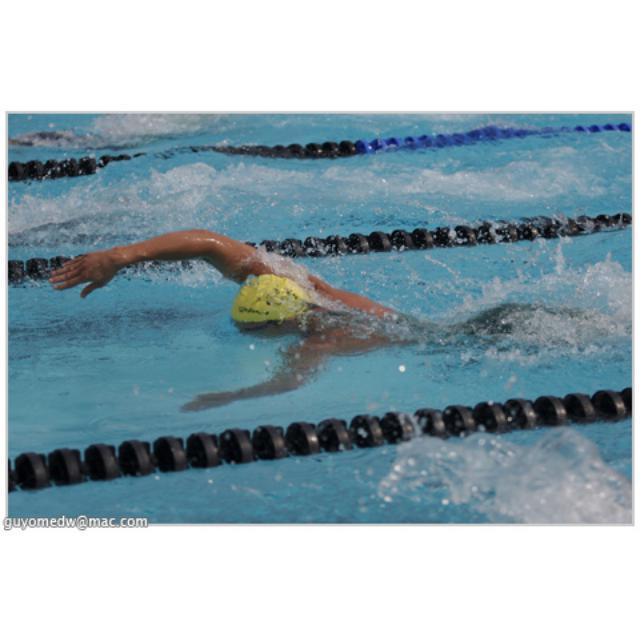human: (51, 224, 624, 406)
